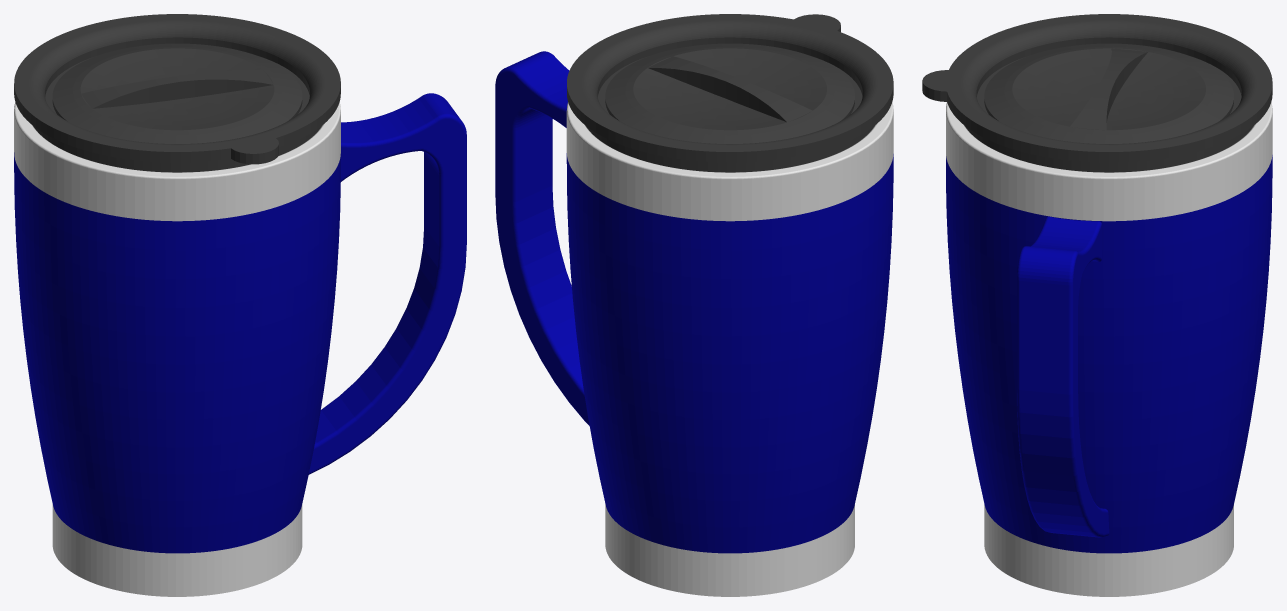
Rendered from appearance.glb.
3 renders of one model, left to right at view 1: azimuth 30°, elevation 25°; view 2: azimuth 150°, elevation 25°; view 3: azimuth 270°, elevation 25°, orthographic.
Parts seen in each view (by area): view 1: visual_0_0, visual_0_3, visual_1_1, visual_0_2, visual_1_0, visual_0_1, visual_1_2; view 2: visual_0_0, visual_1_1, visual_0_3, visual_0_2, visual_1_0, visual_0_1, visual_1_2; view 3: visual_0_0, visual_1_1, visual_0_3, visual_1_0, visual_0_2, visual_0_1, visual_1_2.
Part boxes in pixels (x1,y1,x2,y2): visual_0_0: [14, 152, 340, 553]; visual_0_3: [308, 93, 466, 474]; visual_1_1: [14, 14, 340, 172]; visual_0_2: [14, 102, 340, 221]; visual_1_0: [52, 43, 302, 143]; visual_0_1: [52, 504, 302, 596]; visual_1_2: [81, 69, 273, 108]; visual_0_0: [566, 153, 893, 553]; visual_1_1: [567, 14, 893, 172]; visual_0_3: [495, 51, 589, 425]; visual_0_2: [566, 102, 893, 221]; visual_1_0: [605, 43, 854, 143]; visual_0_1: [605, 504, 854, 596]; visual_1_2: [648, 56, 812, 122]; visual_0_0: [946, 155, 1272, 553]; visual_1_1: [922, 14, 1272, 172]; visual_0_3: [1017, 216, 1109, 537]; visual_1_0: [984, 43, 1233, 143]; visual_0_2: [946, 102, 1272, 221]; visual_0_1: [984, 504, 1233, 596]; visual_1_2: [1070, 48, 1147, 130].
Size of the model in its own units: 1.46 by 1.64 by 1.12.
